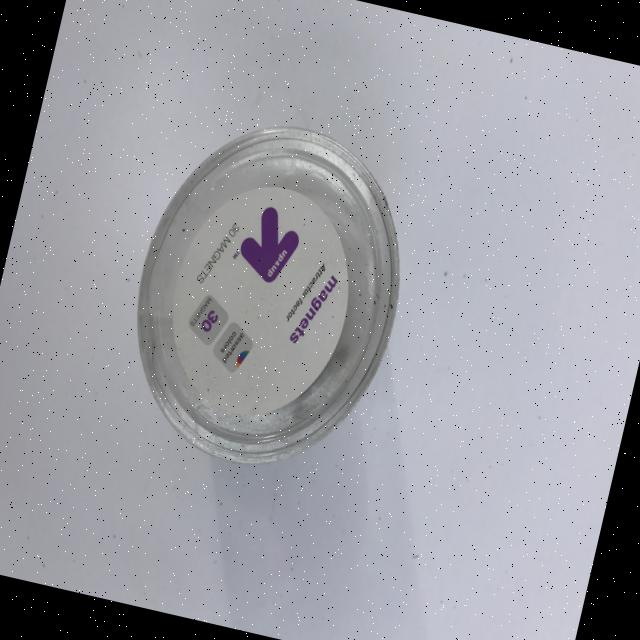plastic: (104, 98, 432, 490)
